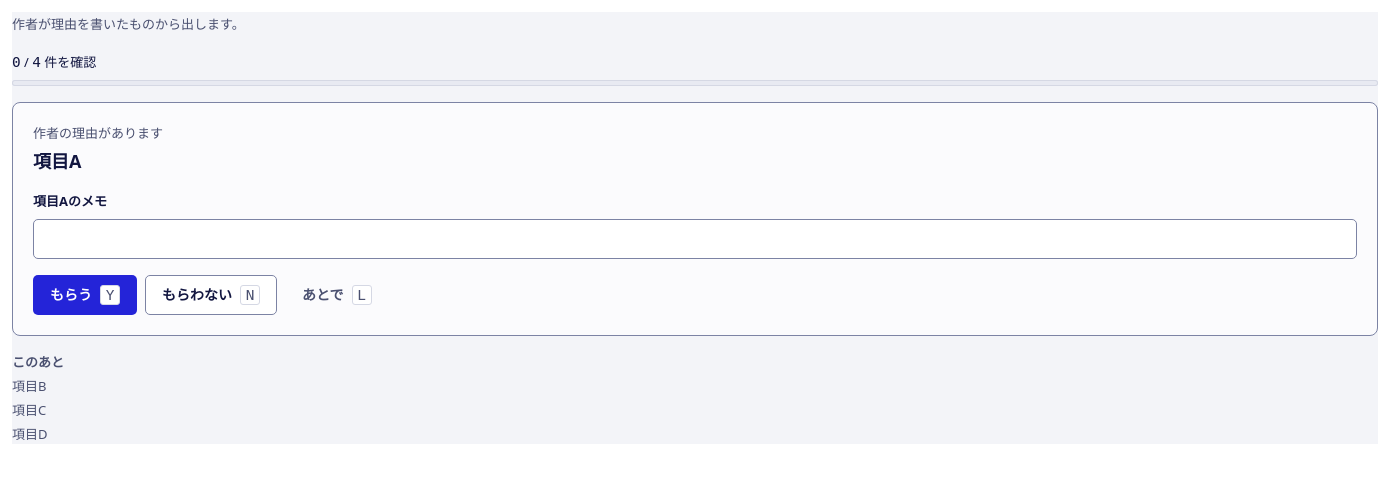
it: DecisionQueue › ignores single-letter keys outside the queue, in text fields and while composing
This screenshot has width=1378, height=485.
Type keys "y"
Check: the text "件を確認" reads "0 / 4 件を確認", box x1=12 y1=52 x2=96 y2=72
Click the field labelled "項目Aのメモ": (695, 239) x1=33 y1=219 x2=1357 y2=259
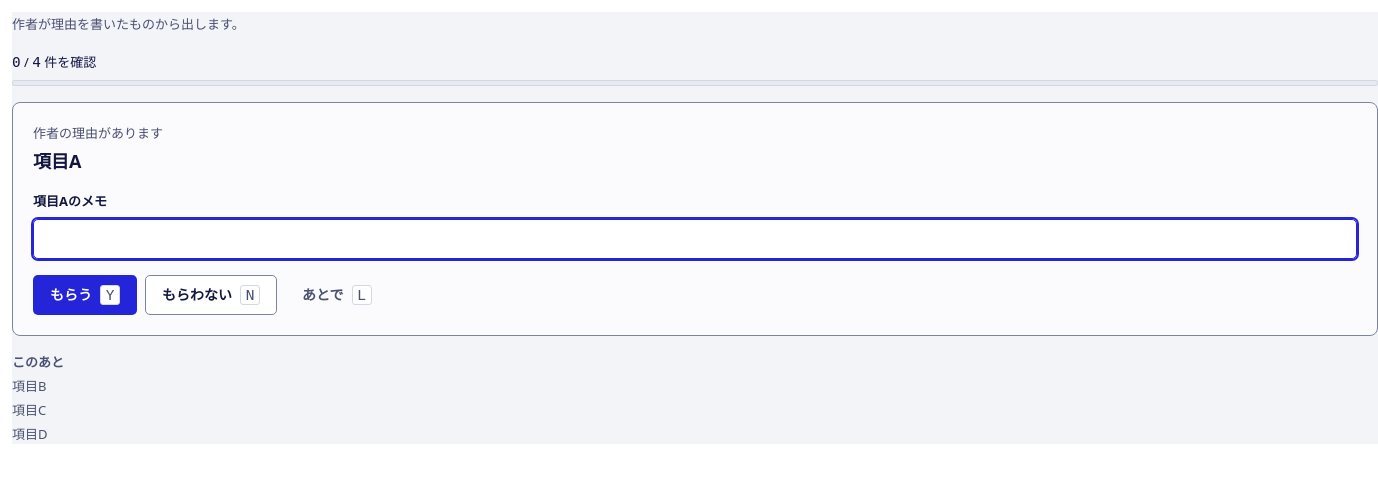
Type keys "yn"
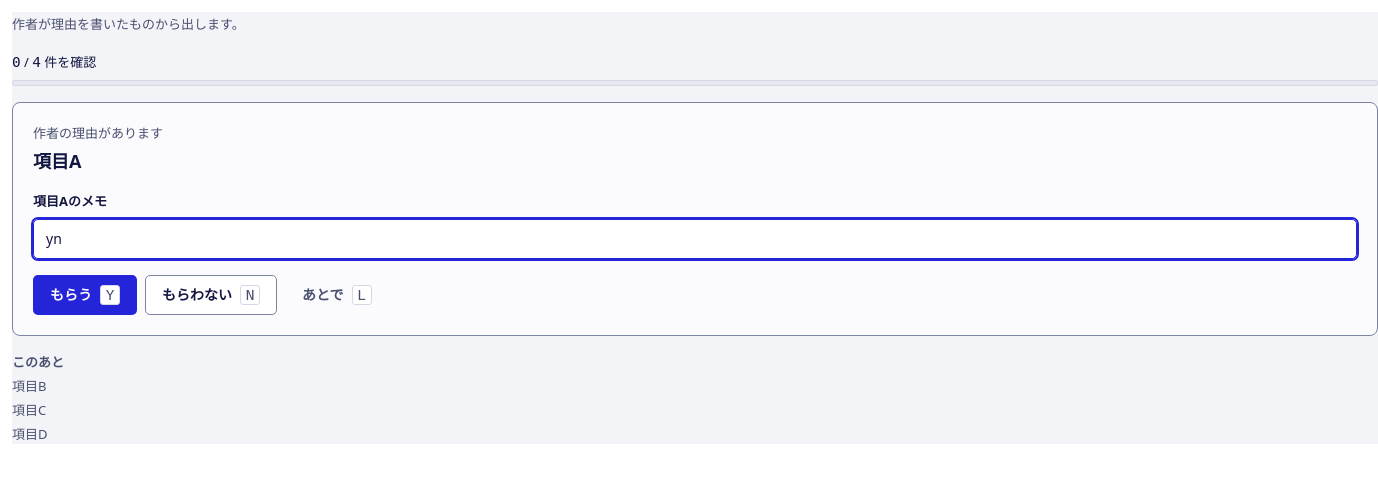
Check: the text "件を確認" reads "0 / 4 件を確認", box x1=12 y1=52 x2=96 y2=72
Press y in the element "作者の理由があります 項目A 項目Aのメモ もらう Y もらわない N あとで L", box x1=12 y1=102 x2=1377 y2=336
Press y in the element "作者の理由があります 項目A 項目Aのメモ もらう Y もらわない N あとで L", box x1=12 y1=102 x2=1377 y2=336
Check: the text "件を確認" reads "0 / 4 件を確認", box x1=12 y1=52 x2=96 y2=72
Press Y in the element "作者の理由があります 項目A 項目Aのメモ もらう Y もらわない N あとで L", box x1=12 y1=102 x2=1377 y2=336
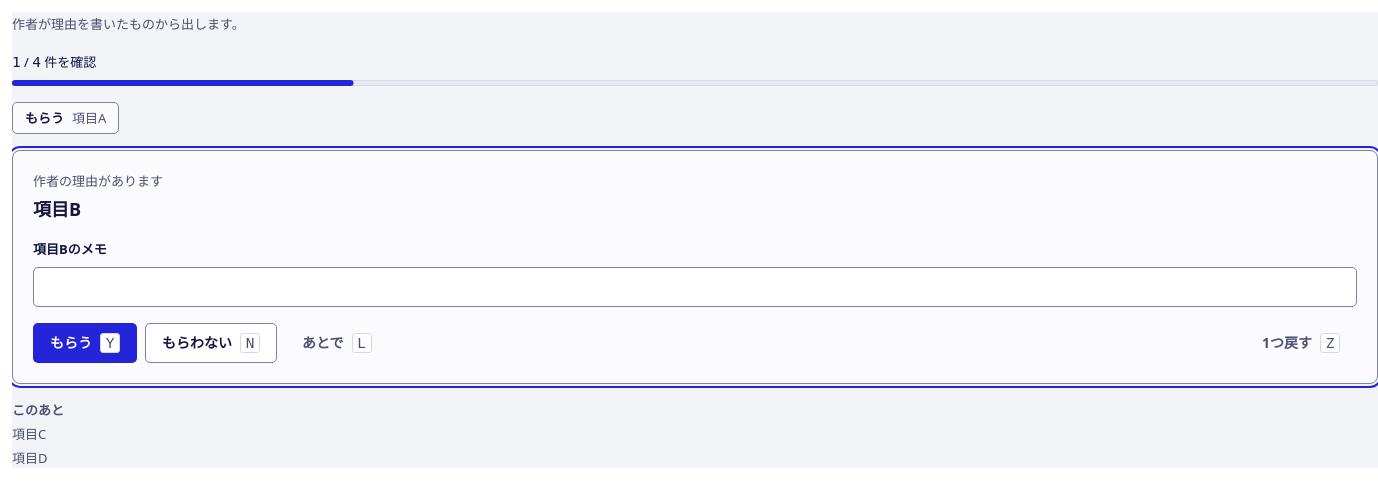
Check: the text "件を確認" reads "1 / 4 件を確認", box x1=12 y1=52 x2=96 y2=72
